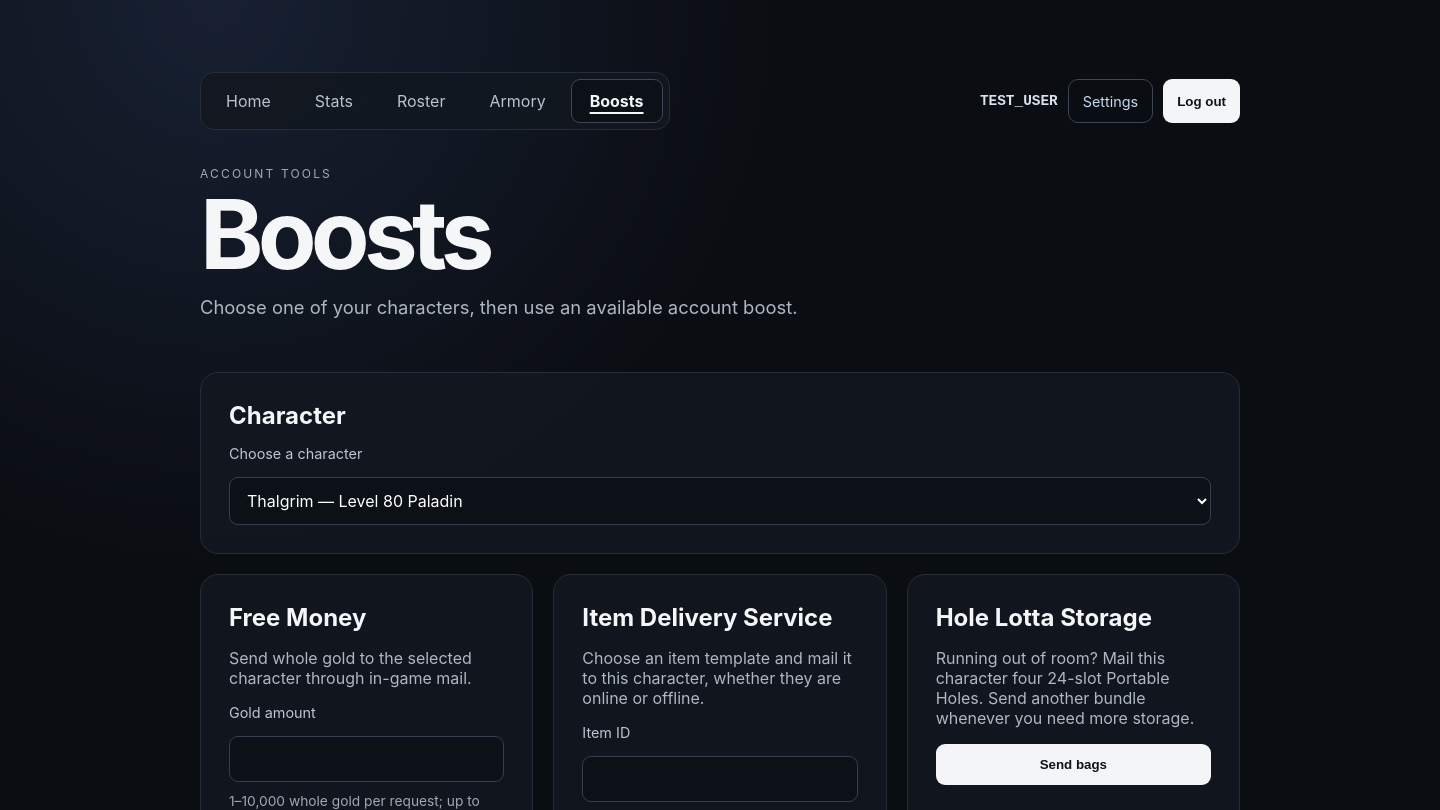
Scenario: Boosts page › creates one UUID per activation, sends CSRF, and reports confirmed success
The image size is (1440, 810).
Type "500" into the field labelled "Gold amount".
click(367, 759); type("500")  # box [229,736,504,782]
(page scrolled)
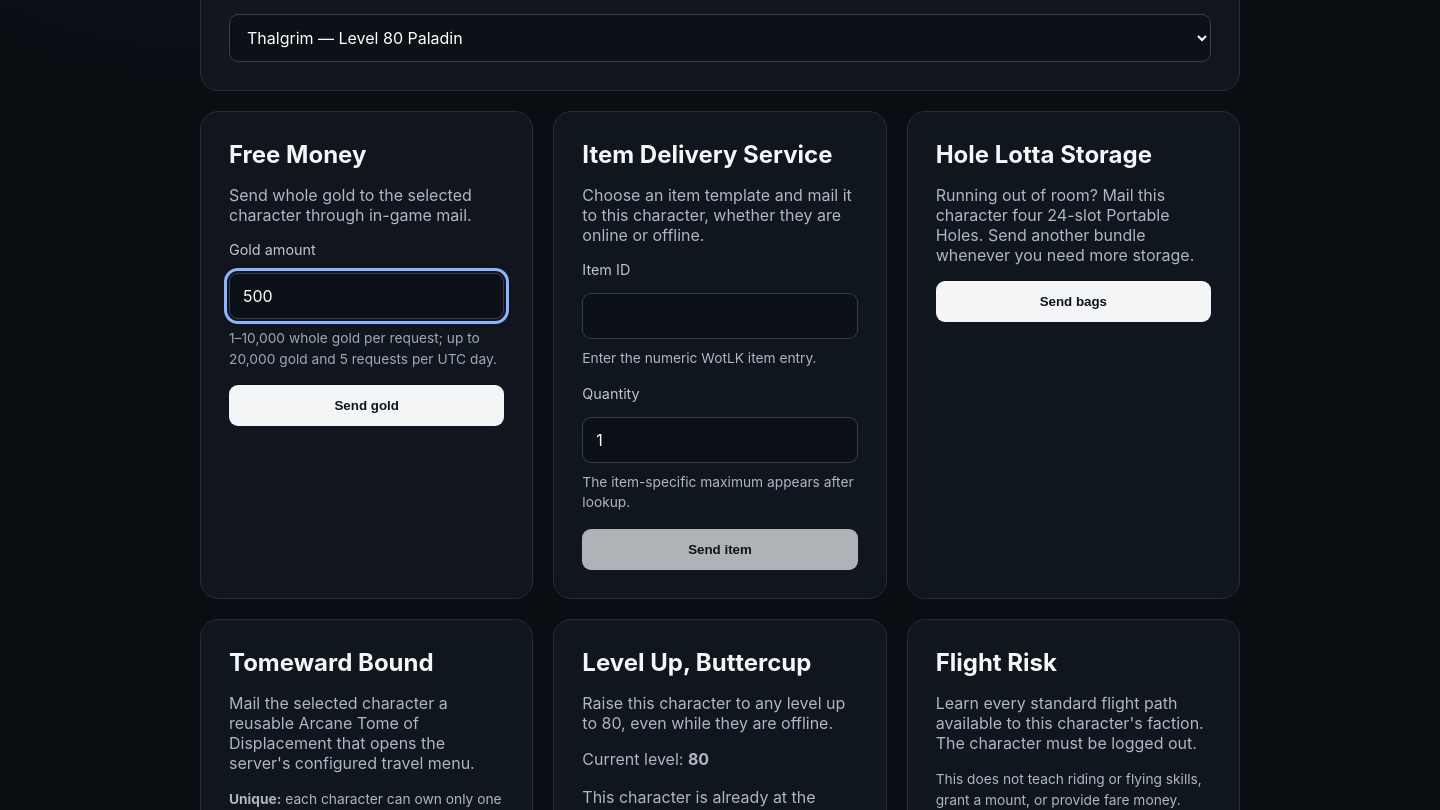
Click the button "Send gold".
click(367, 406)  # box [229,386,504,426]
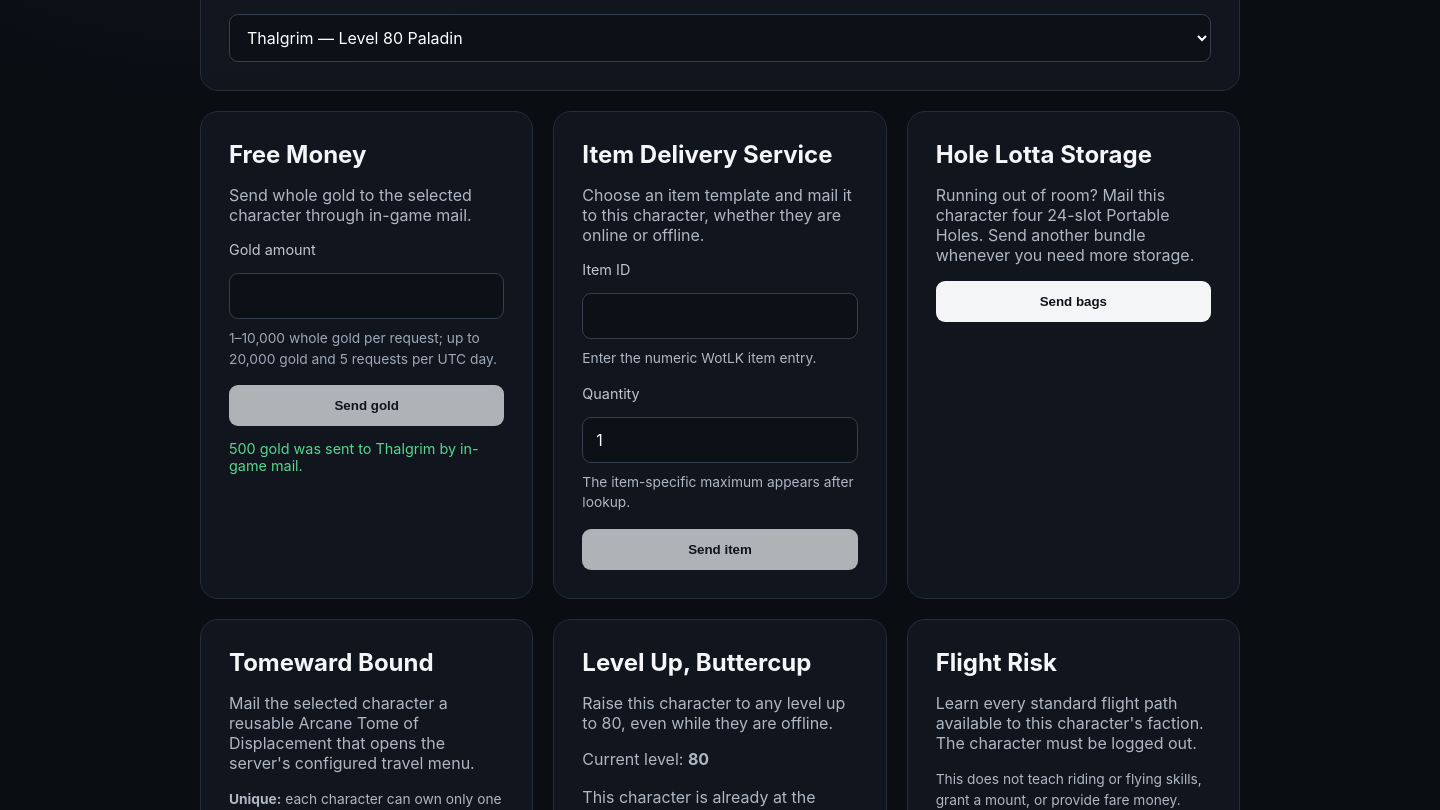
expect the text "500 gold was sent to Thalgrim by in-game mail." is shown: met, box [229,440,504,474]
expect the field labelled "Gold amount" is empty: met, box [229,273,504,319]
